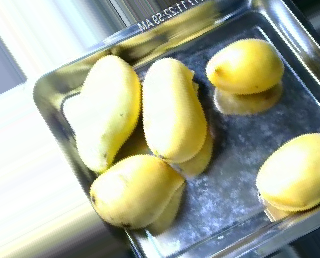Mango: (83, 152, 192, 227), (76, 53, 140, 170), (140, 56, 209, 163), (253, 122, 320, 214), (200, 31, 290, 93)
